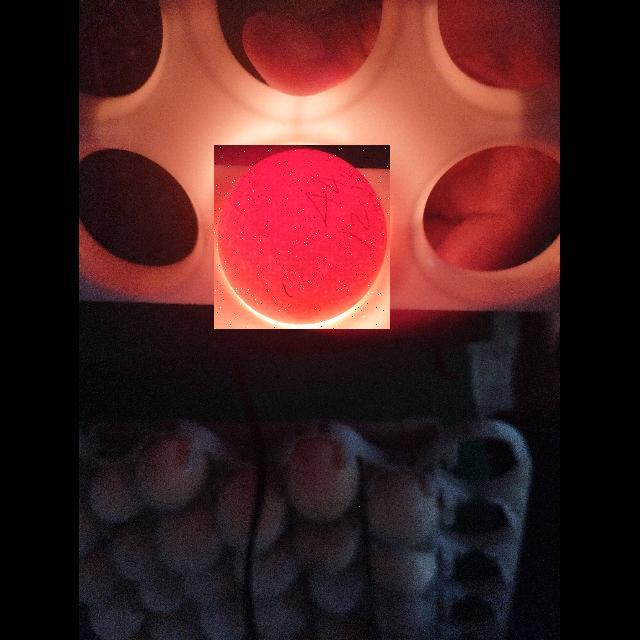A - Good: (214, 145, 390, 329)
